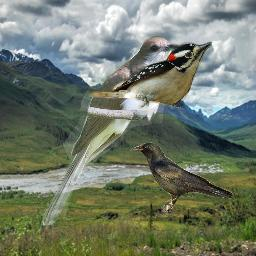Crow: (129, 142, 234, 213)
Cuckoo: (40, 36, 180, 227)
Woodpecker: (88, 39, 212, 110)
